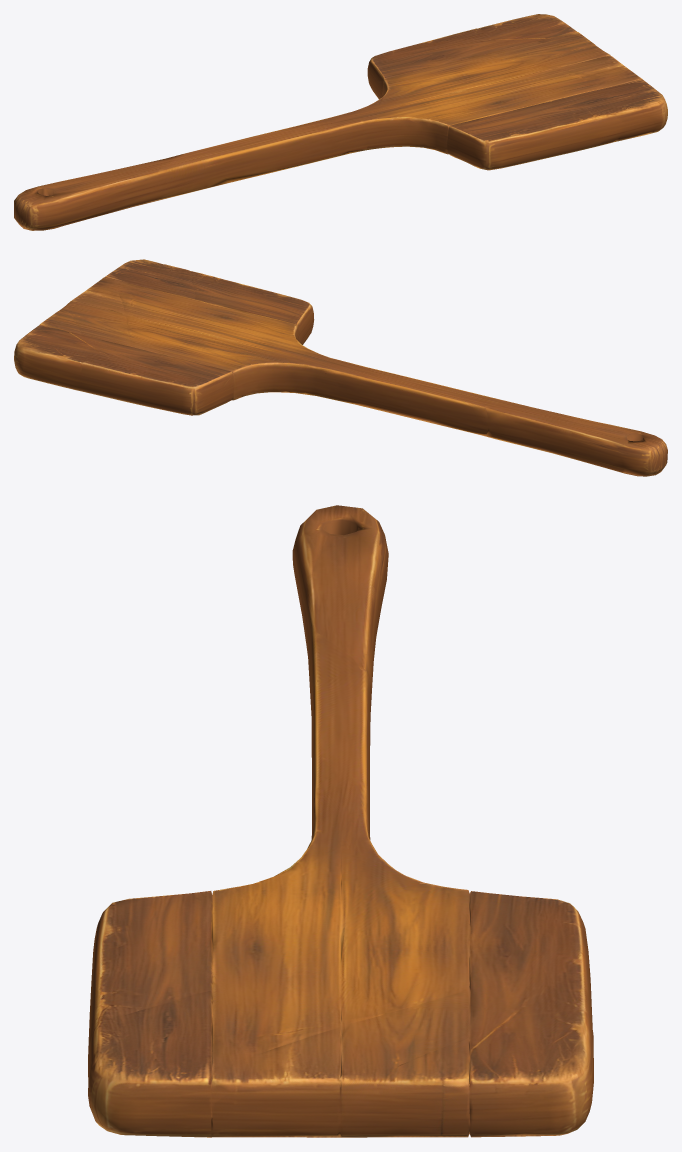
Rendered from peel.glb.
The picture shows the model from 3 angles, top to bottom: view 1: azimuth 30°, elevation 25°; view 2: azimuth 150°, elevation 25°; view 3: azimuth 270°, elevation 25°; orthographic projection. The views are drawn at different scales.
Parts seen in each view (by area): view 1: tripo_node_8af8c9ec-3598-445e-9e23-0f53b9217306; view 2: tripo_node_8af8c9ec-3598-445e-9e23-0f53b9217306; view 3: tripo_node_8af8c9ec-3598-445e-9e23-0f53b9217306.
Boxes of the visible parts, x1,y1,x2,y2 form: tripo_node_8af8c9ec-3598-445e-9e23-0f53b9217306: (14,14,667,230); tripo_node_8af8c9ec-3598-445e-9e23-0f53b9217306: (14,259,667,476); tripo_node_8af8c9ec-3598-445e-9e23-0f53b9217306: (88,505,593,1137).
Bounding box in the file's own units: 1 × 0.0497 × 0.368.
Materials: 1 (1 with a texture image).
